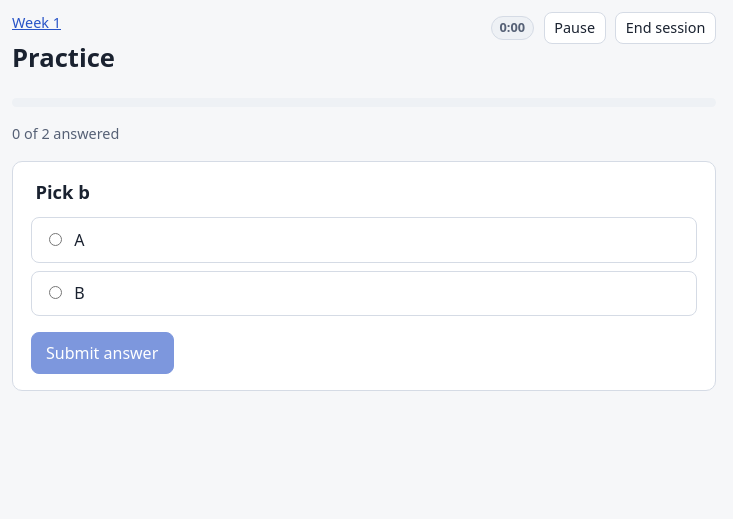
PlayScreen › submits with an idempotency key, then shows feedback and moves on
Click the radio button labelled "B" at (55, 292), box [49, 286, 62, 299]
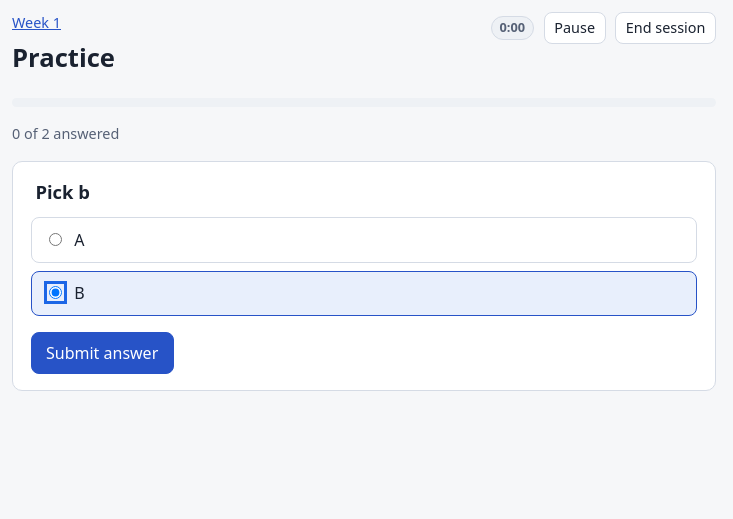
Click the button "Submit answer" at (102, 353), box [31, 332, 174, 374]
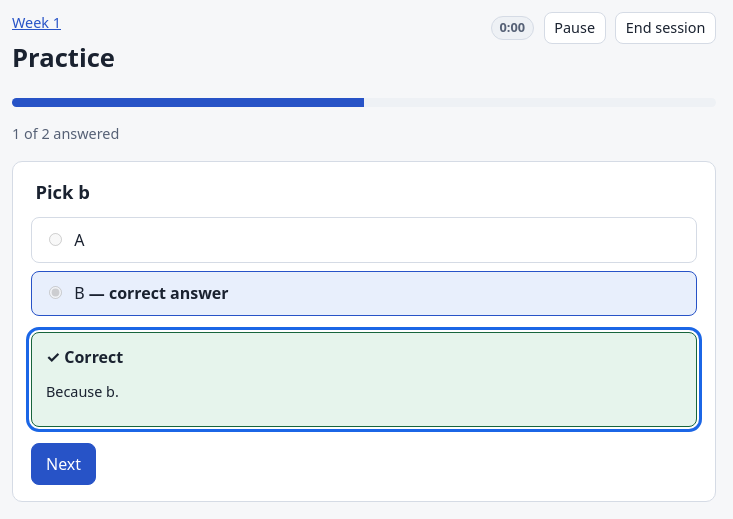
Expected: the text "✓ Correct" is shown, [46, 346, 123, 368]
Expected: the text "Because b." is shown, [46, 382, 119, 401]
Click the button "Next" at (64, 464), box [31, 443, 96, 485]
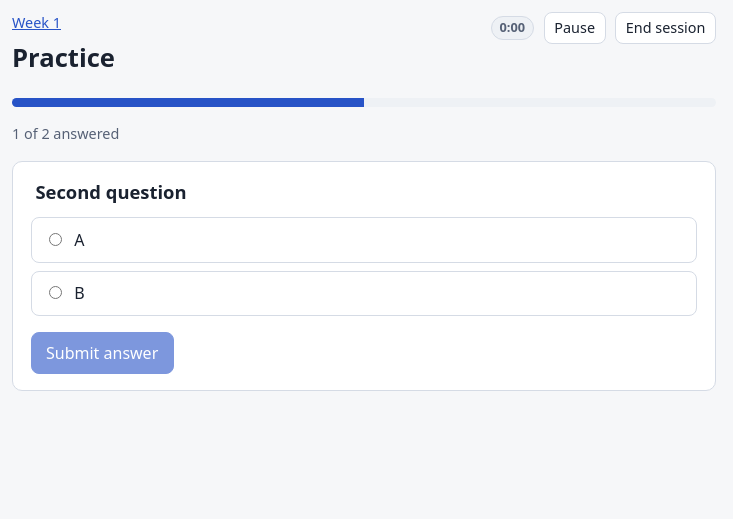
Expected: the text "Second question" is shown, [31, 178, 191, 205]
Expected: the button "Submit answer" is disabled, [31, 332, 174, 374]
